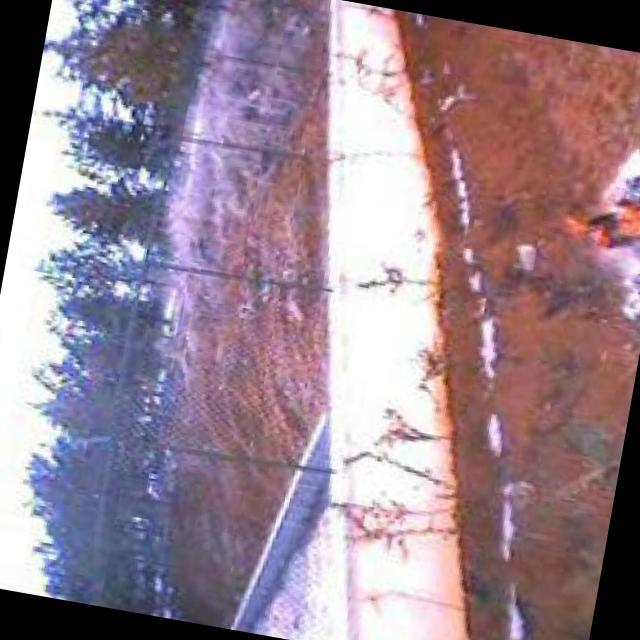Fire: (557, 166, 640, 266)
